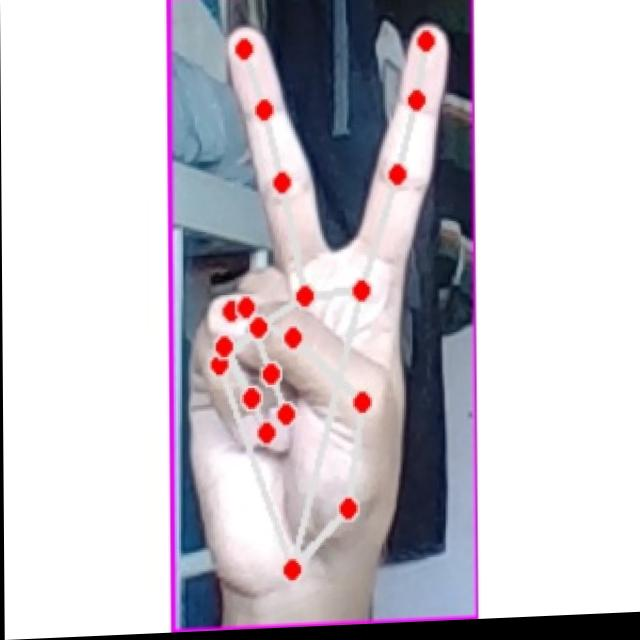V: (187, 19, 454, 599)
